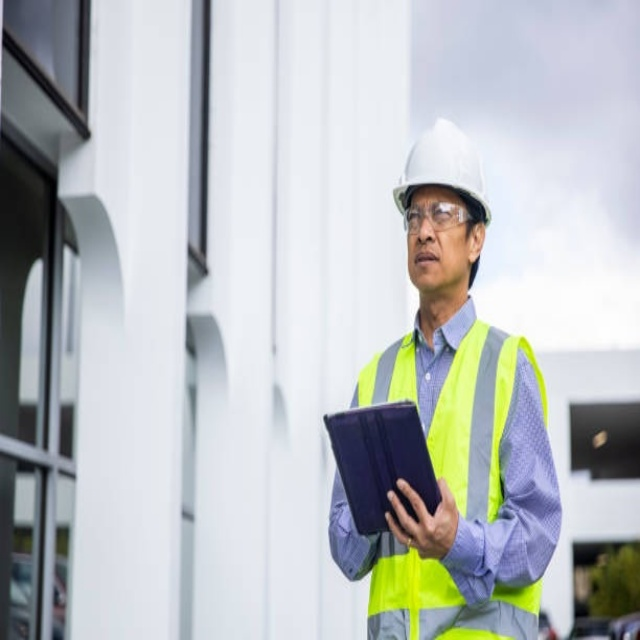Gafas: (403, 202, 475, 234)
Sin_guantes: (386, 474, 459, 561)
Sin_mascara: (409, 248, 444, 284)
